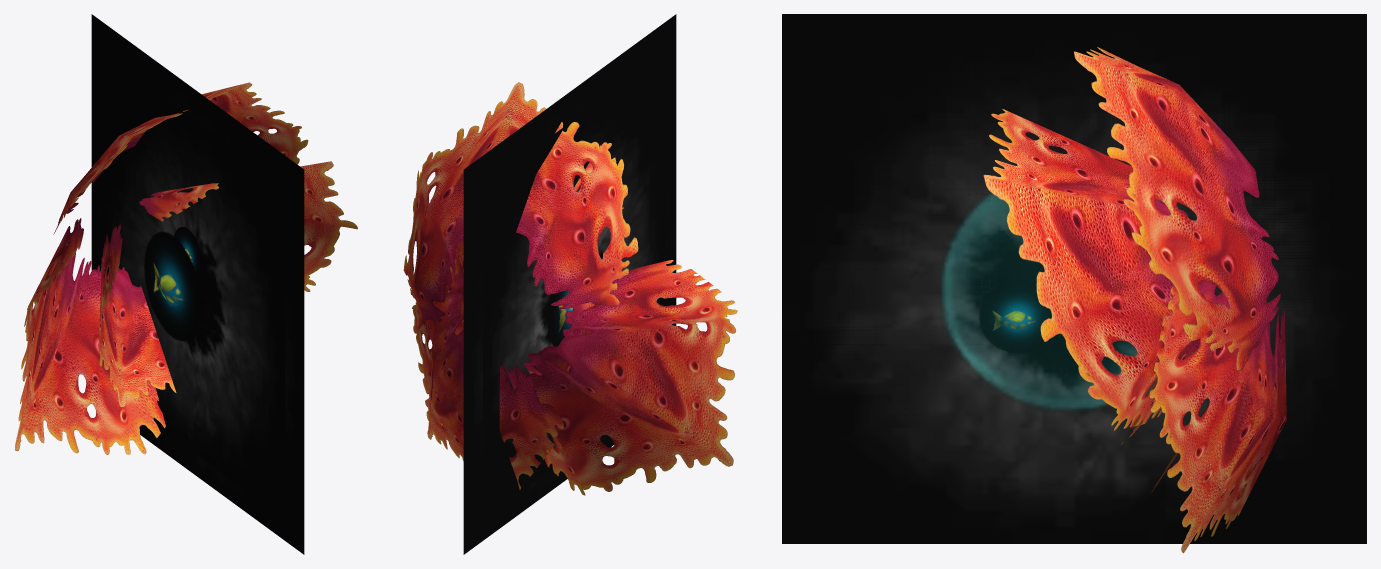
3 renders of one model, left to right at view 1: azimuth 30°, elevation 25°; view 2: azimuth 150°, elevation 25°; view 3: azimuth 270°, elevation 25°, orthographic. The views are drawn at different scales.
Size of the model in its own units: 5.34 by 5.87 by 5.79.
6 materials, 6 textured.
